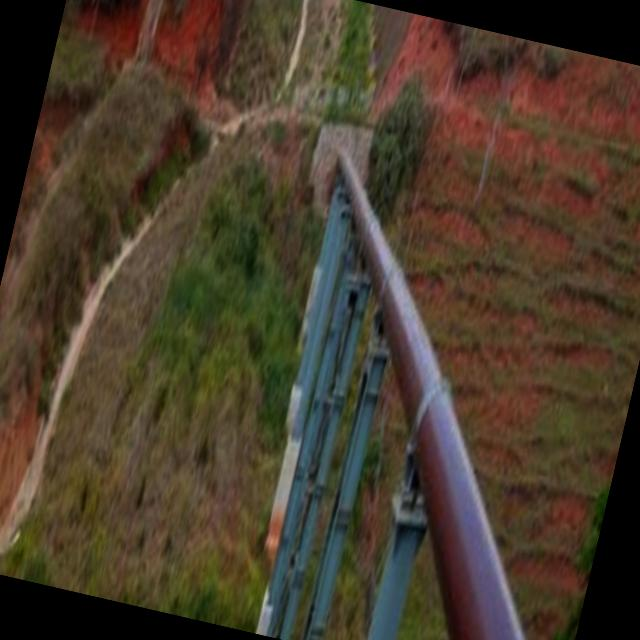gas: (334, 146, 520, 640)
